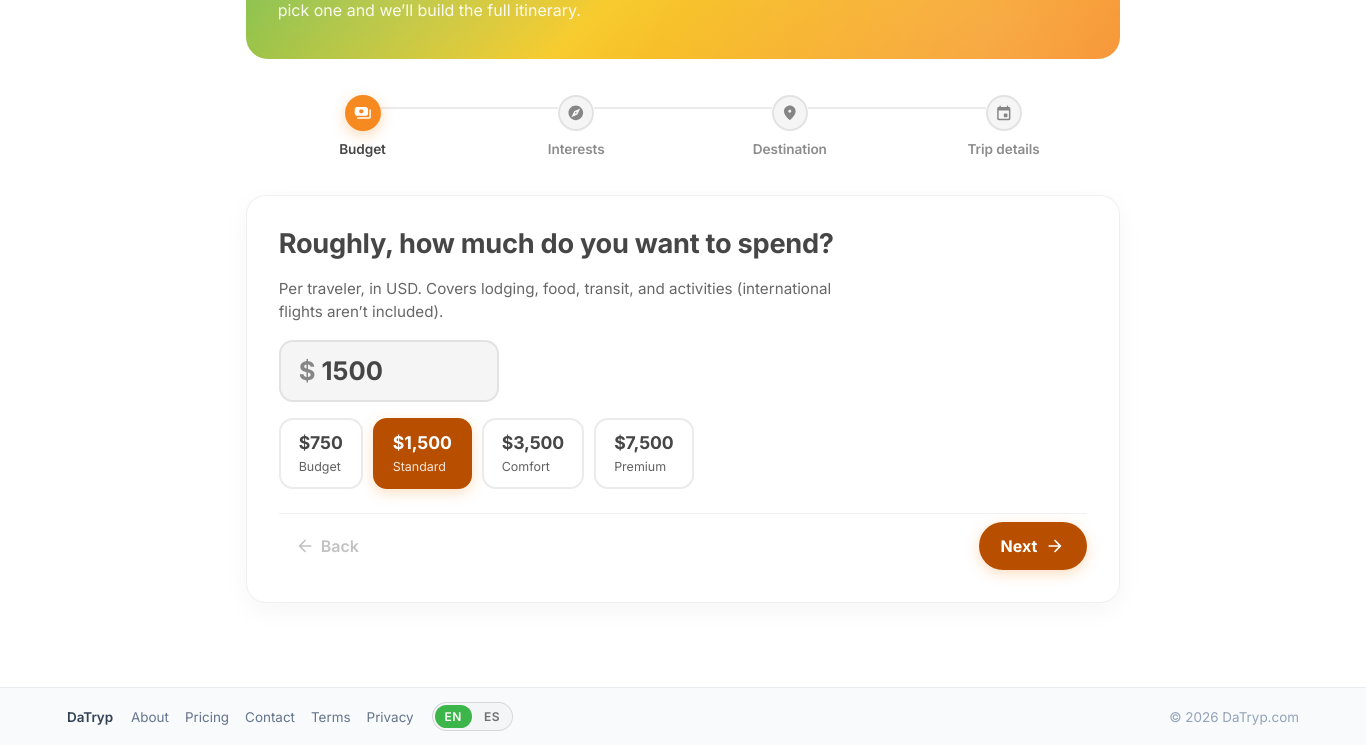
AiTripBuilderPage — wizard › navigates forward/back and jumps to a completed step via the stepper
(page scrolled)
Click the button "Next". click: {"x": 1033, "y": 546}
box: top-left (978, 522), bottom-right (1087, 570)
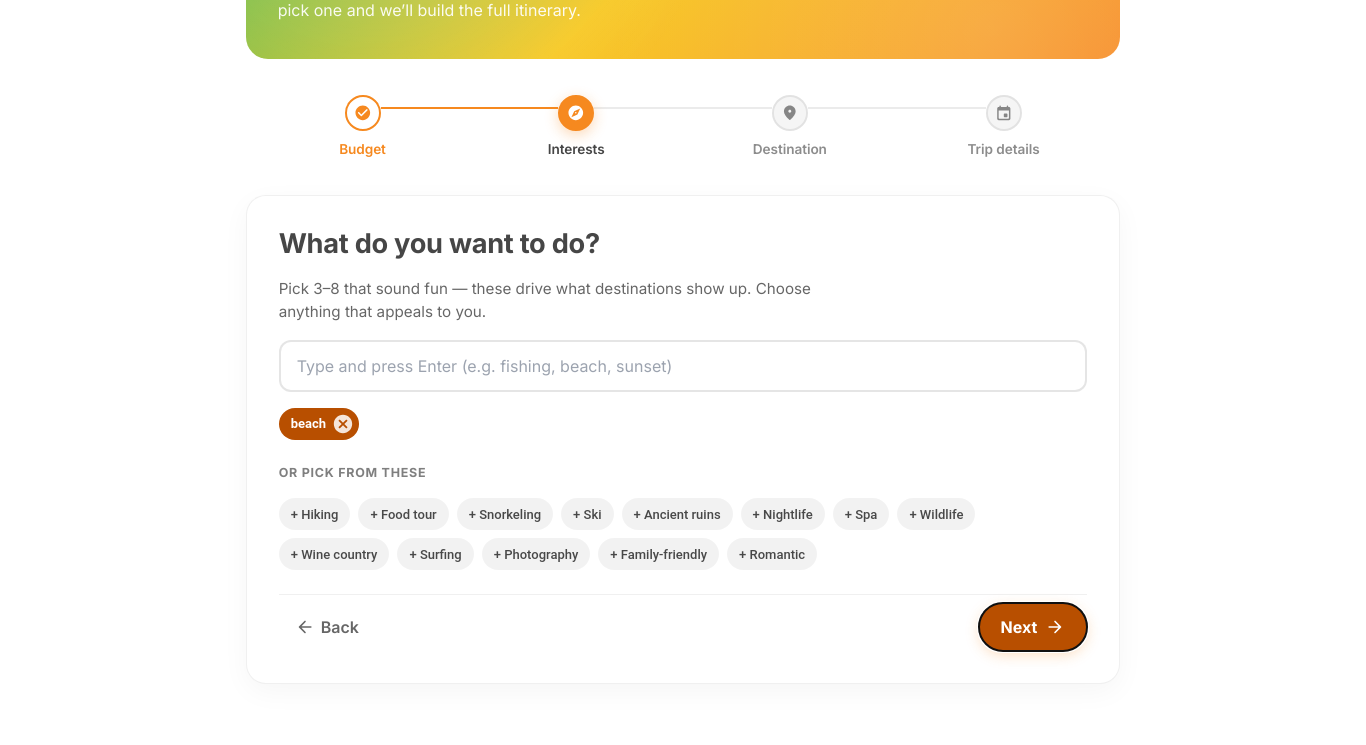
Check: the heading "What do you want to do?" is shown, box top-left (279, 227), bottom-right (600, 260)
Click the button "Next". click: {"x": 1033, "y": 627}
box: top-left (978, 603), bottom-right (1087, 651)
(page scrolled)
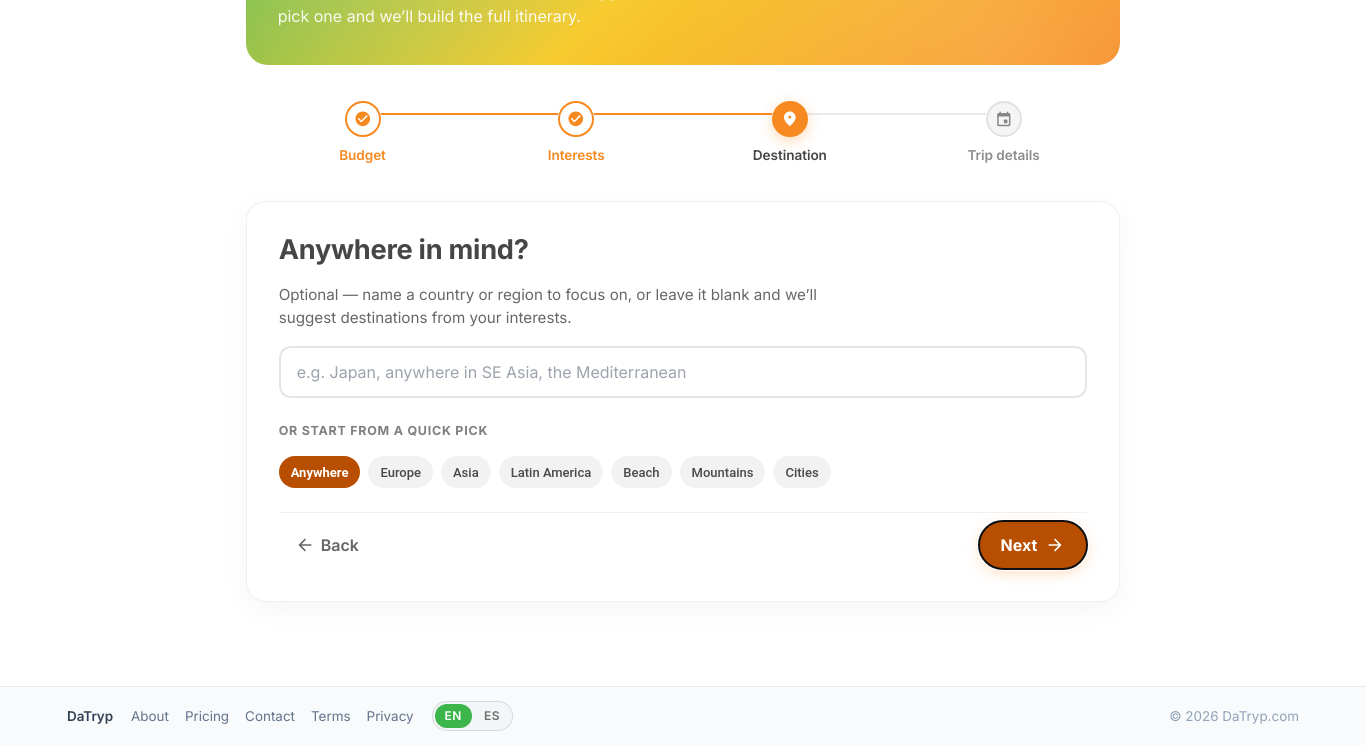
Check: the heading "Anywhere in mind?" is shown, box top-left (279, 233), bottom-right (529, 266)
Click the button "Back". click: {"x": 327, "y": 545}
box: top-left (279, 523), bottom-right (375, 567)
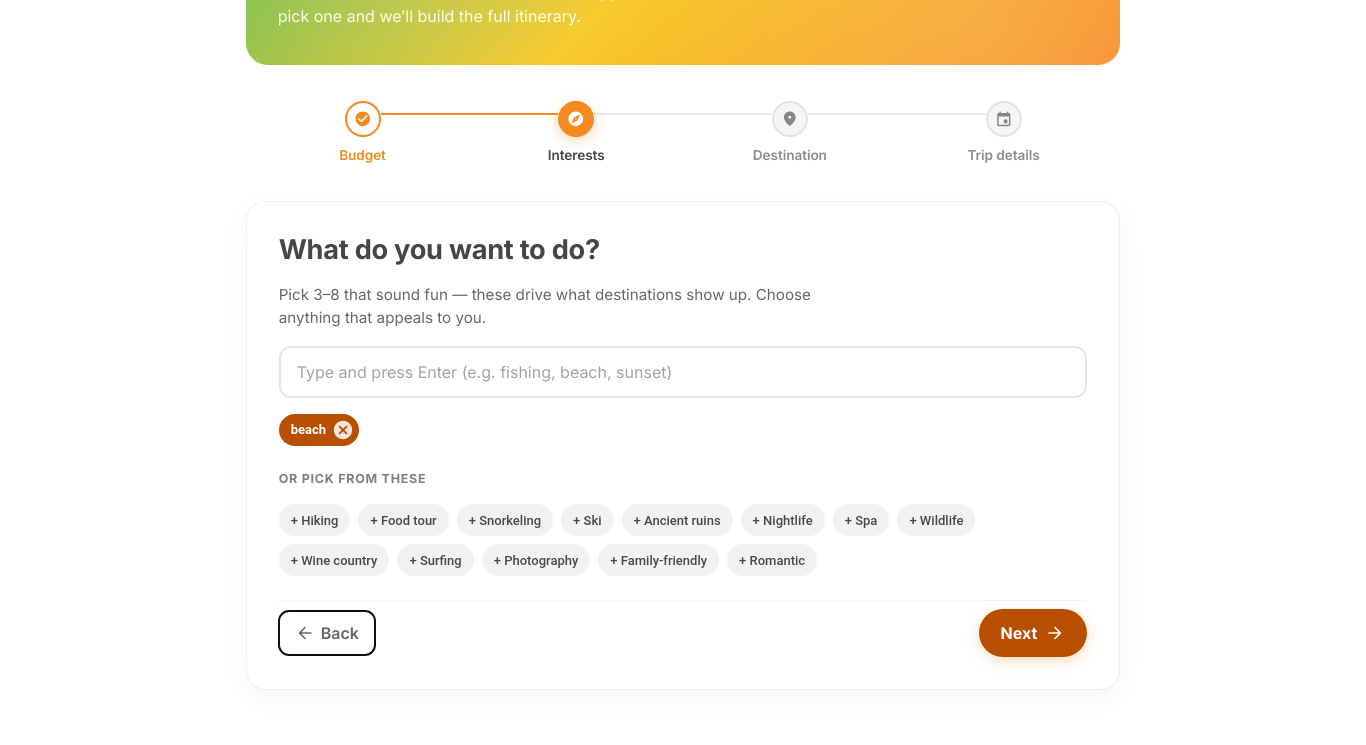
Check: the heading "What do you want to do?" is shown, box top-left (279, 233), bottom-right (600, 266)
Click the button "Budget". click: {"x": 363, "y": 133}
box: top-left (256, 94), bottom-right (469, 171)
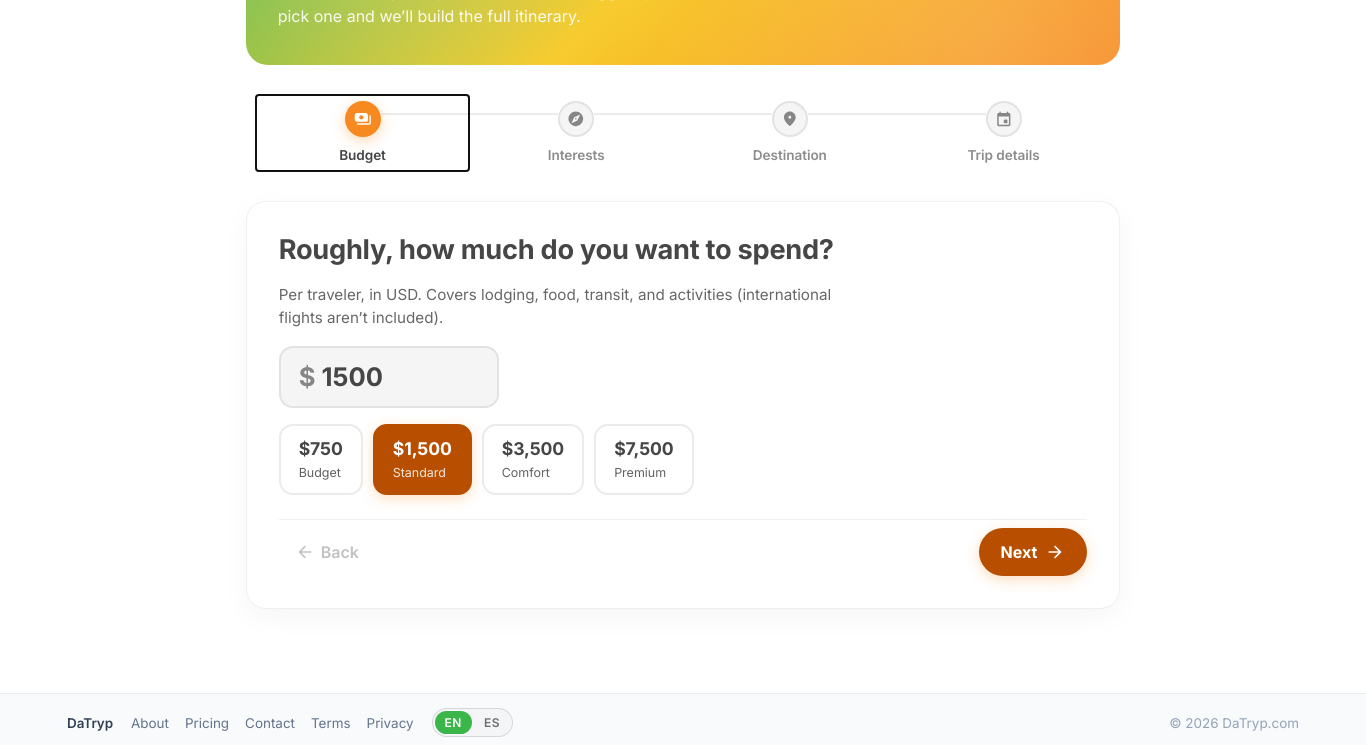
Check: the button "Destination" is disabled, box top-left (683, 94), bottom-right (897, 171)
Check: the heading "Roughly, how much do you want to spend?" is shown, box top-left (279, 233), bottom-right (834, 266)
